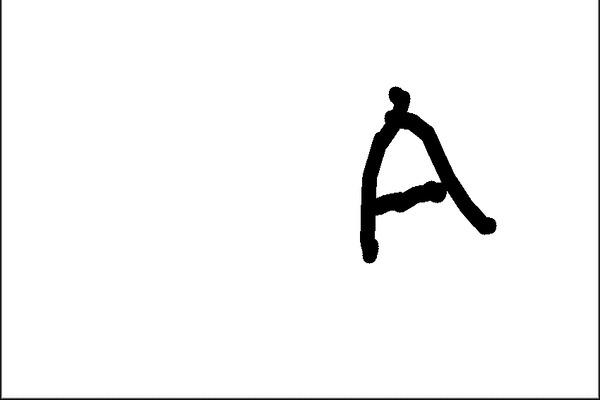A: (339, 76, 508, 269)
